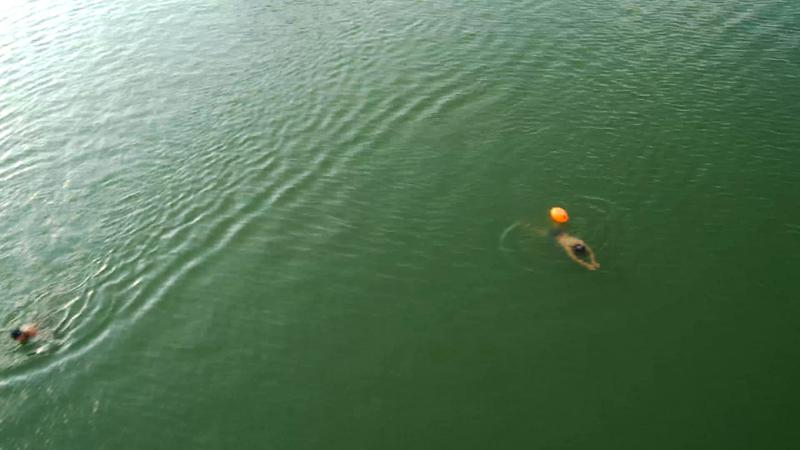swimmers: (521, 221, 601, 273), (8, 322, 40, 347)
